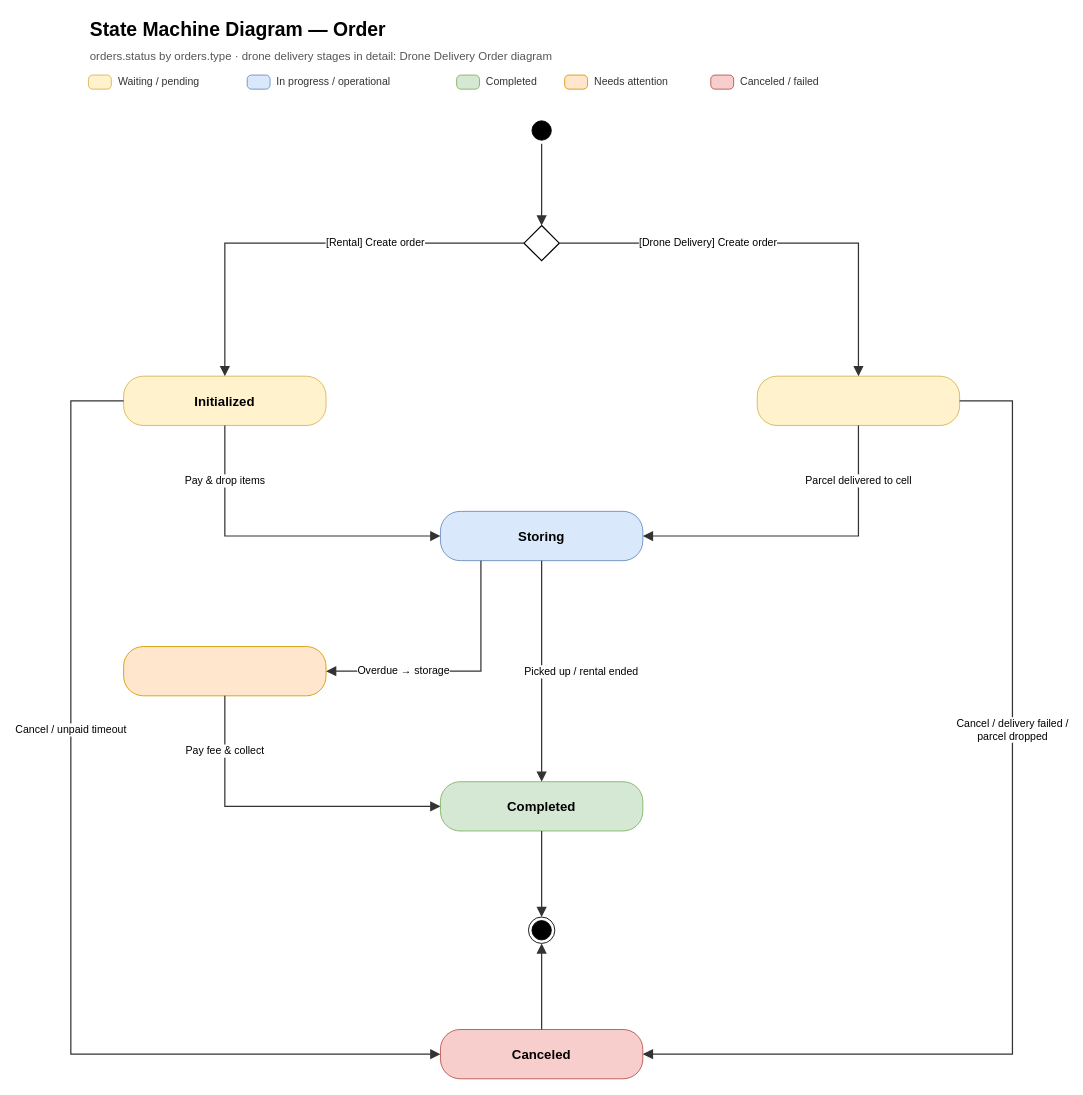
Some shapes in this 1083 by 1095 pixel diagram are drawn without their labels. The box of each missing label's shape, as (x1, y1, x2, y2) in pixels:
Awaiting Dispatch: (756, 375, 960, 425)
Expired: (123, 646, 326, 696)
